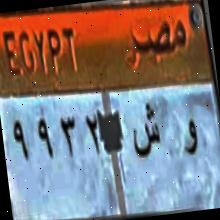2: (84, 110, 103, 159)
3: (58, 109, 81, 164)
9: (33, 109, 56, 167), (10, 115, 32, 171)
sheen: (124, 91, 165, 178)
waw: (178, 112, 202, 170)
